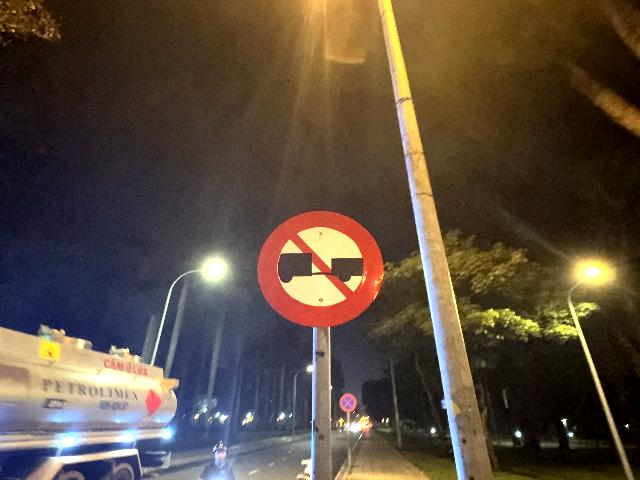cam-xe-somi-romooc: (256, 210, 385, 329)
